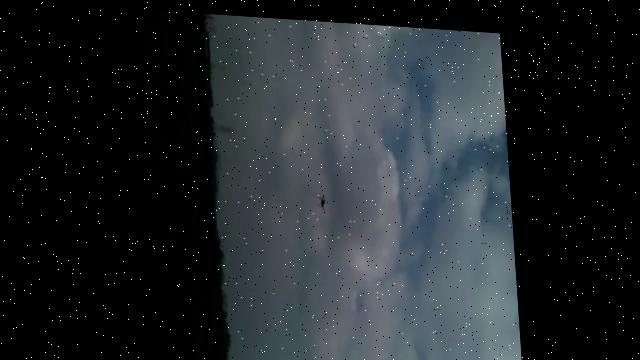drone: (314, 188, 329, 208)
